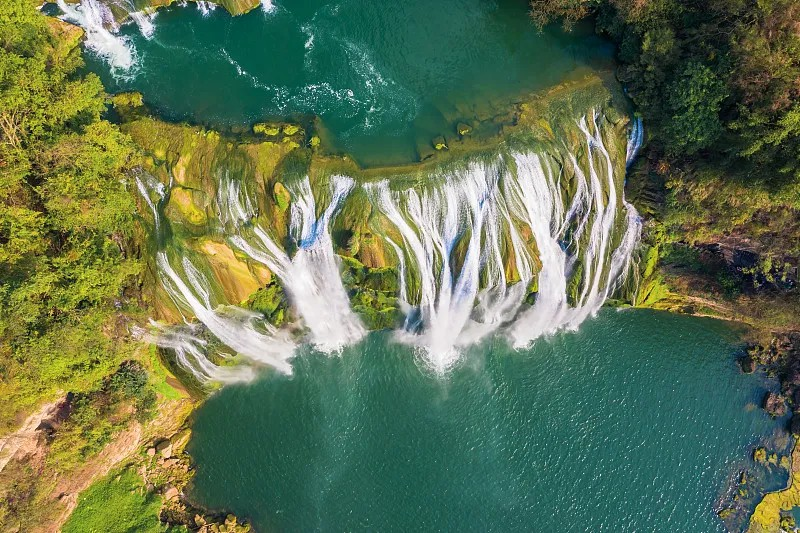Huangguoshu: (130, 107, 643, 383)
